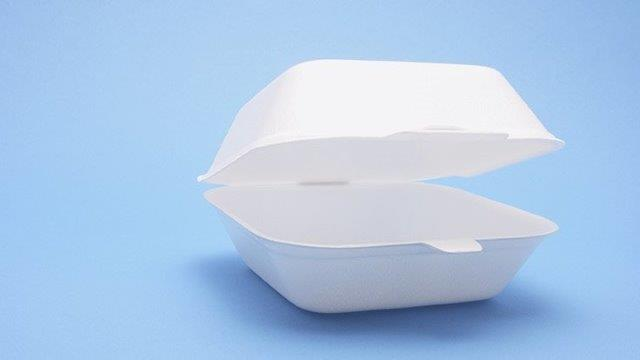sterofoam: (204, 64, 563, 310)
